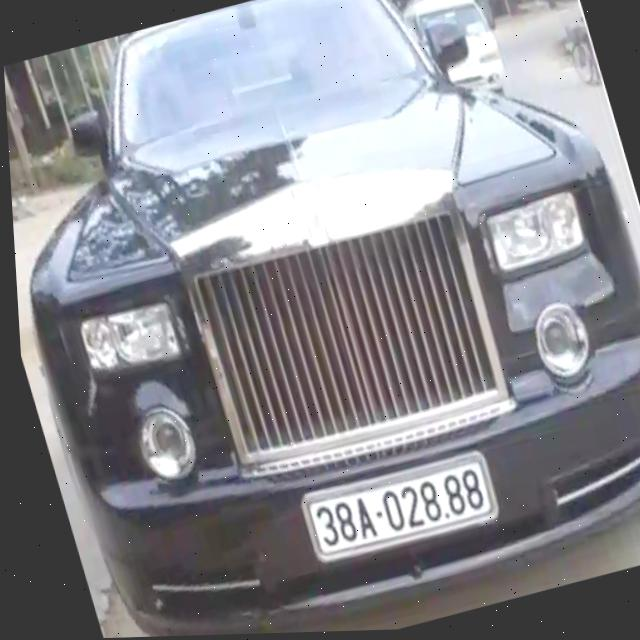car: (0, 0, 640, 640), (393, 0, 520, 117)
plate: (294, 443, 514, 572)
